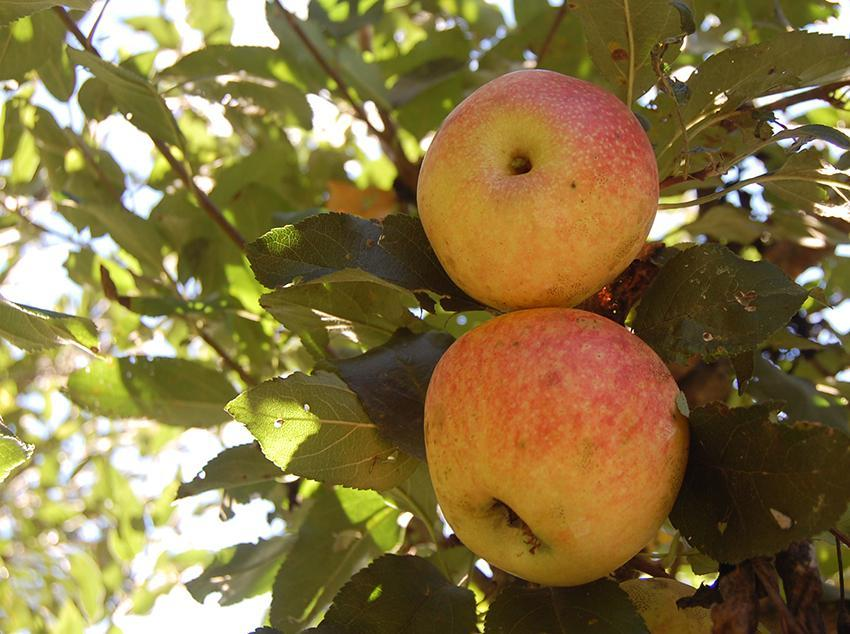apple: (424, 306, 693, 584), (412, 69, 662, 313)
